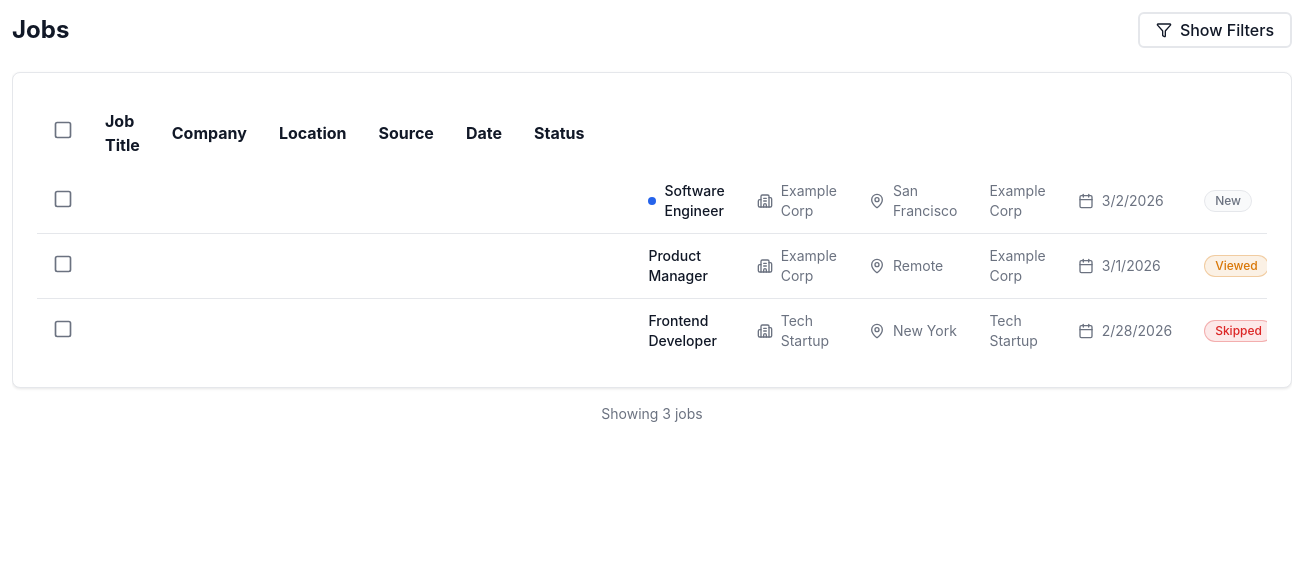
Test case: Jobs Page › toggles filter panel visibility
expect the text "Software Engineer" is shown: met, box [664, 181, 725, 221]
Click the button "Show Filters" at (1215, 30), box [1138, 12, 1292, 48]
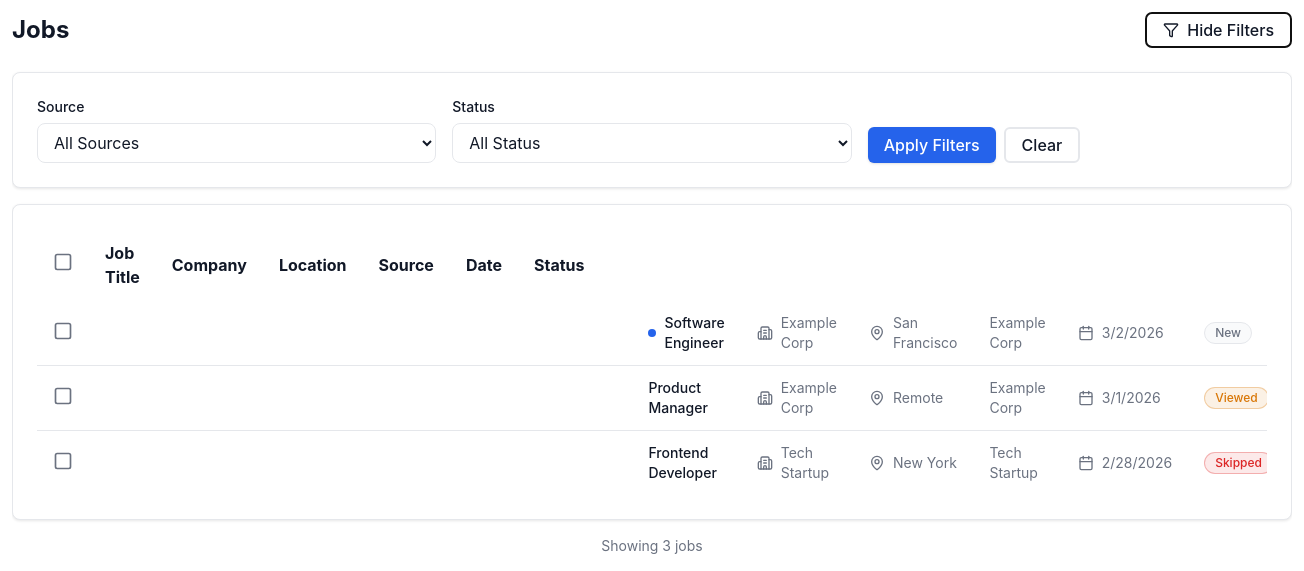
expect the button "Hide Filters" is shown: met, box [1145, 12, 1292, 48]
